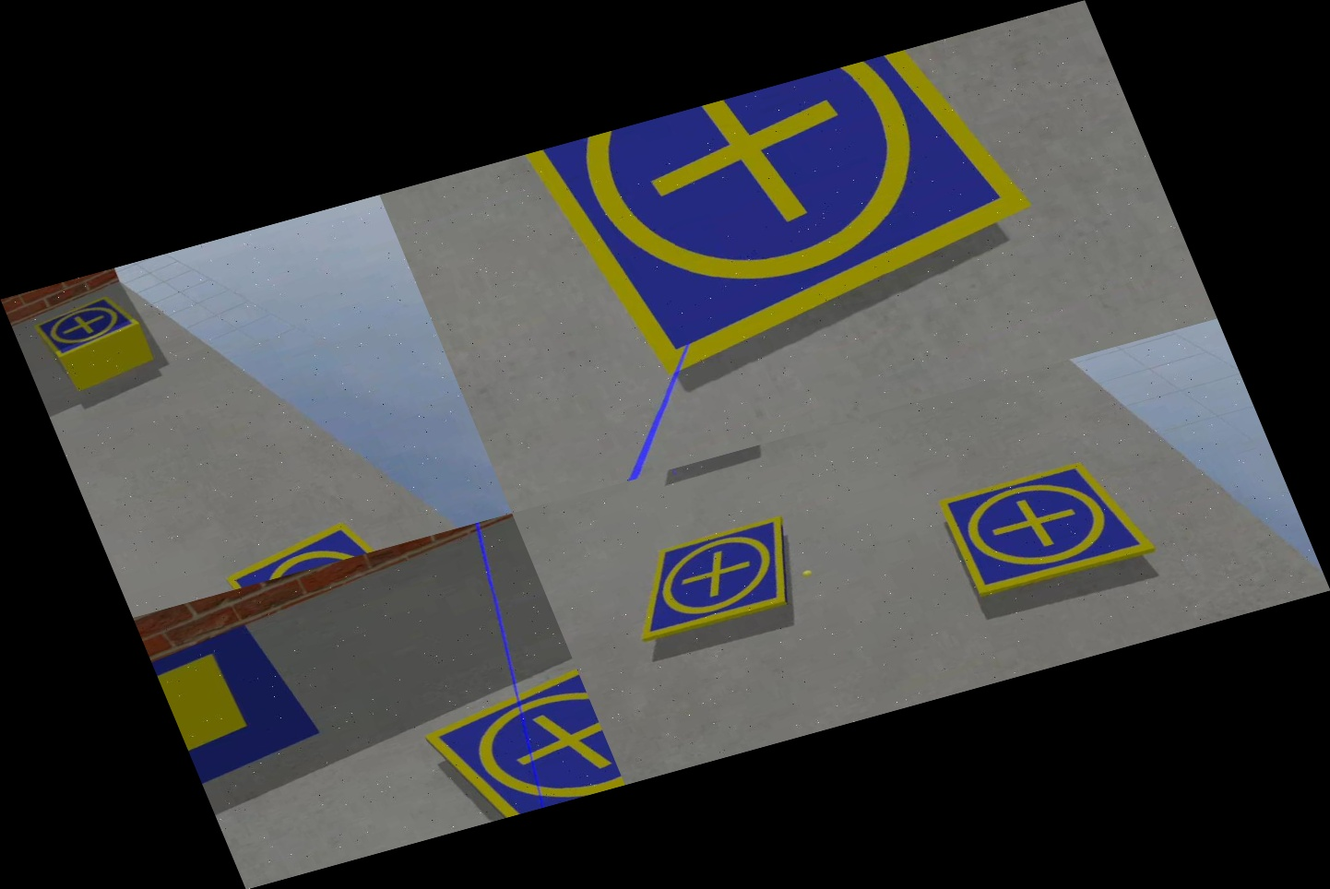large_base: (147, 614, 340, 809)
small_base: (510, 32, 1065, 399), (922, 437, 1166, 614), (411, 663, 625, 829), (597, 503, 827, 656), (213, 505, 400, 591), (29, 287, 148, 362)
